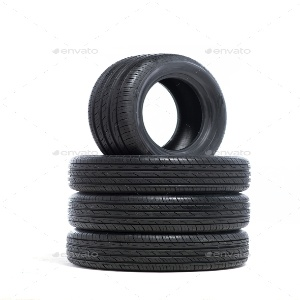tire: (84, 50, 229, 155), (66, 192, 251, 234), (69, 230, 251, 271), (69, 155, 250, 193)
